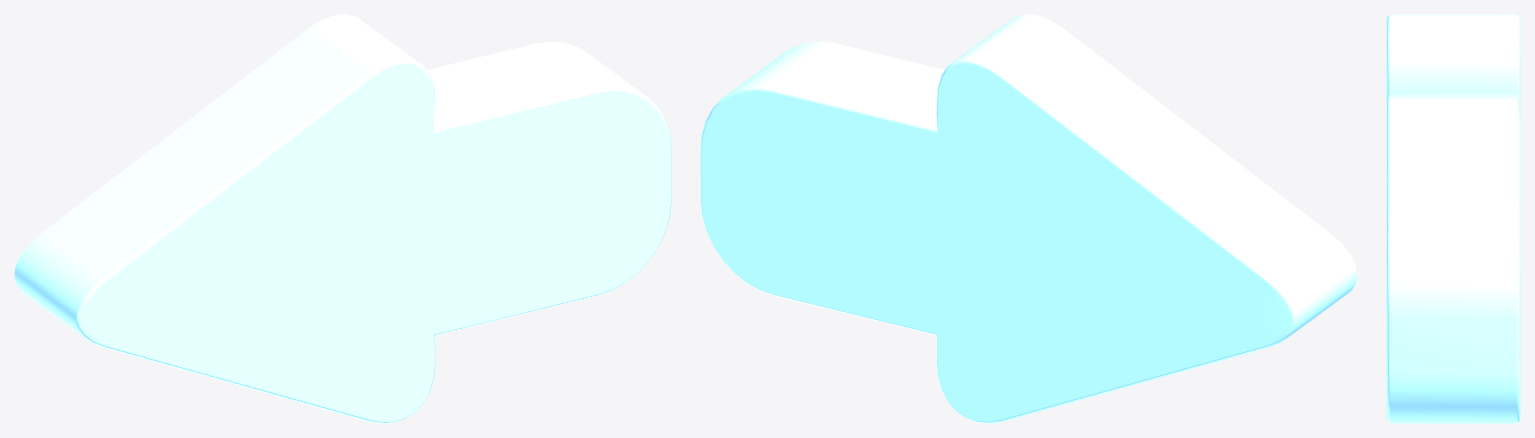
The model's file is Arrow.fbx.
3 renders of one model, left to right at view 1: azimuth 30°, elevation 25°; view 2: azimuth 150°, elevation 25°; view 3: azimuth 270°, elevation 25°, orthographic. The views are drawn at different scales.
Visible parts, largest first — view 1: Right Arrow; view 2: Right Arrow; view 3: Right Arrow.
Boxes of the visible parts, x1=… form: Right Arrow: x1=14, y1=14, x2=671, y2=423; Right Arrow: x1=700, y1=14, x2=1357, y2=423; Right Arrow: x1=1386, y1=14, x2=1520, y2=423.
Bounding box in the file's own units: 78.87 × 45.84 × 14.89.
